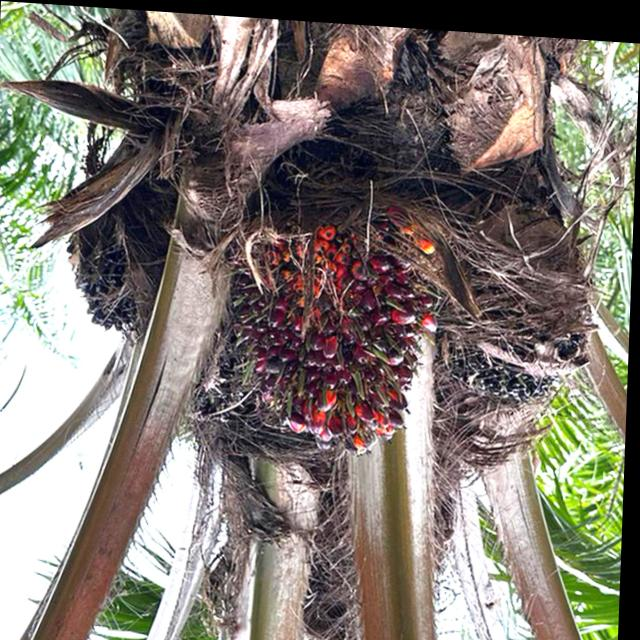ripe: (205, 192, 459, 474)
